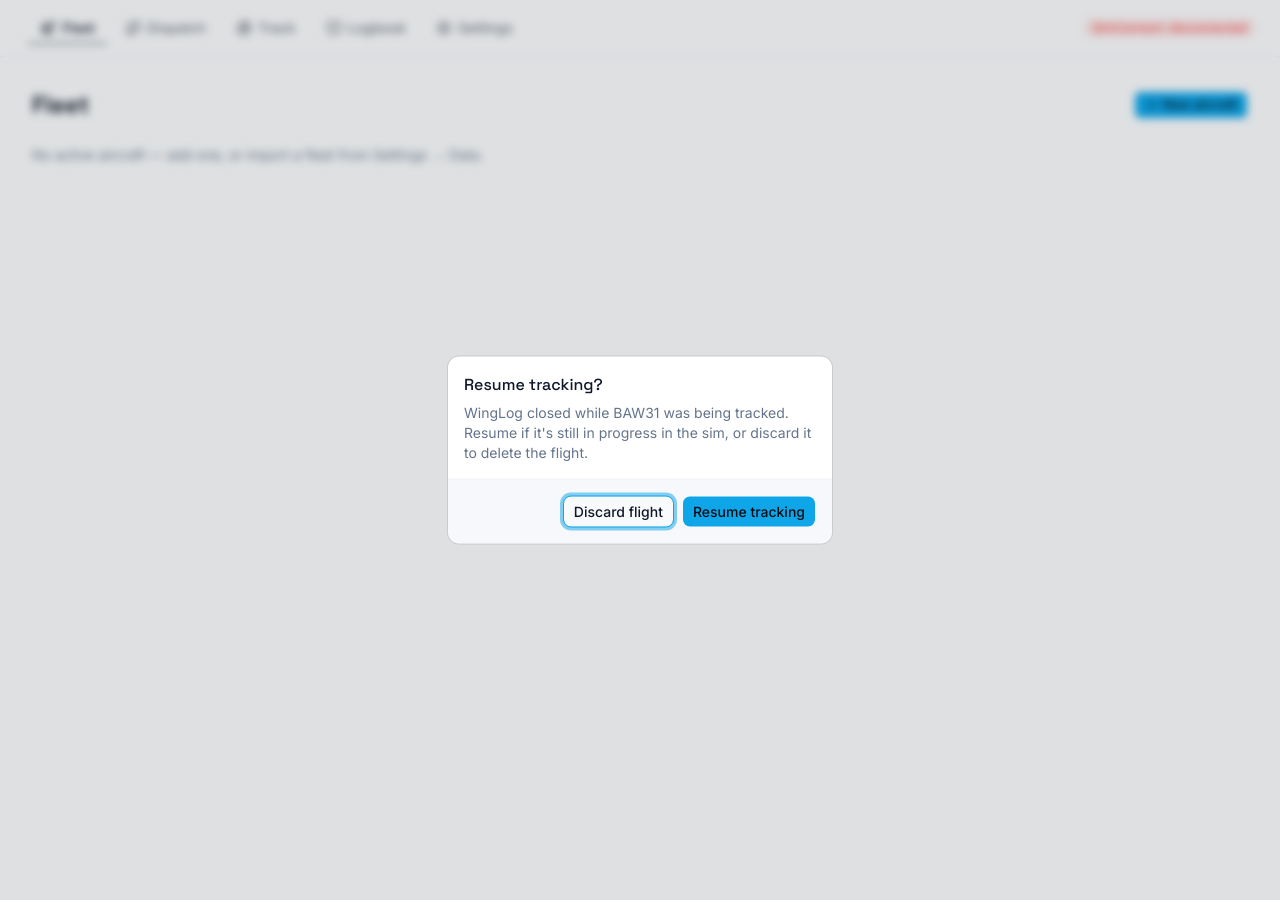
Test: App › shows the resume-tracking prompt for a genuinely active orphaned flight, and resumes it
This screenshot has width=1280, height=900.
Expected: the heading "Resume tracking?" is shown, [464,372,603,396]
Expected: the text "WingLog closed while BAW31 was being tracked" is shown, [464,404,811,460]
Click the button "Resume tracking" at (749, 512), box [682,496,816,528]
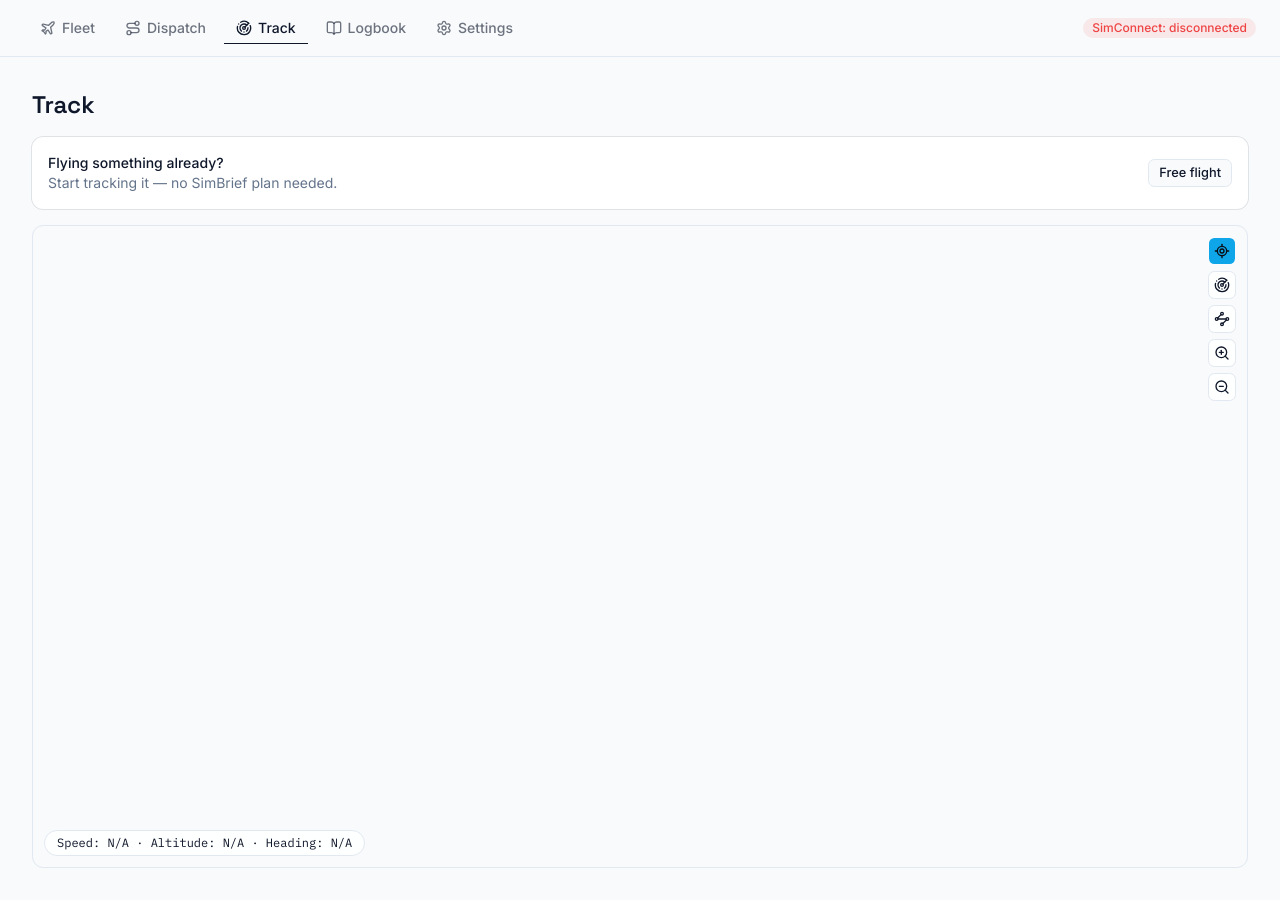
Expected: the heading "Track" is shown, [32,89,95,120]
Expected: the heading "Resume tracking?" is gone
